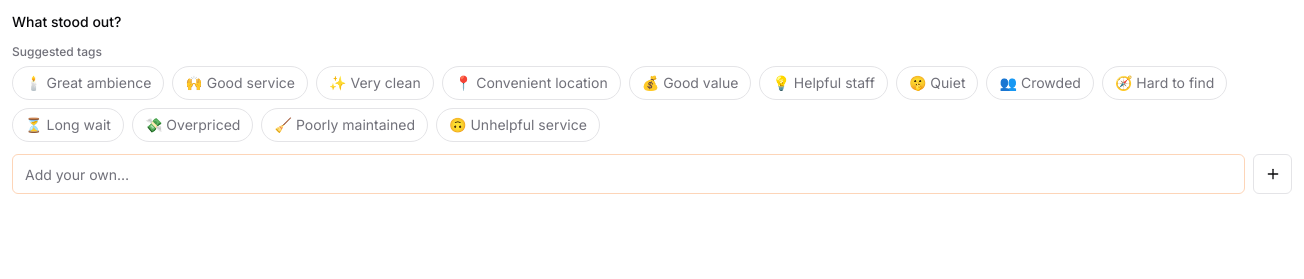
it: UnifiedTagSelector (curated adapter) › adds custom tags with Enter without submitting the form, and removes them
The width and height of the screenshot is (1304, 279).
Later steps or results of the test are not shown.
Type "  Lack of AC  " into the field named "Add your own tag" at point(629, 174), box [12,154,1245,194]
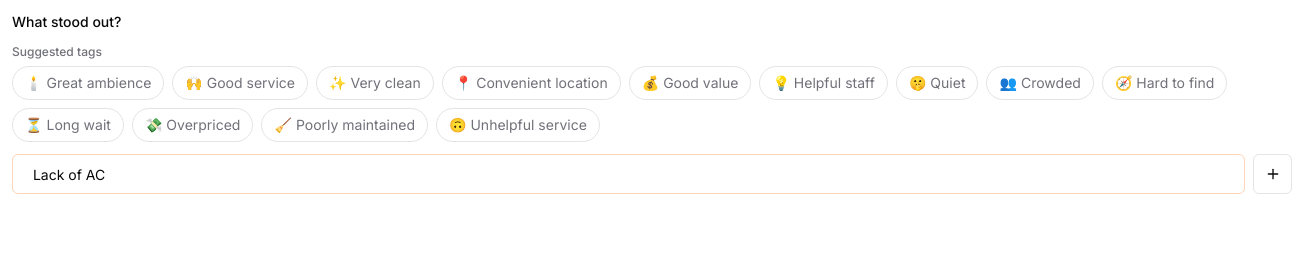
Press Enter in the field named "Add your own tag", box [12,154,1245,194]
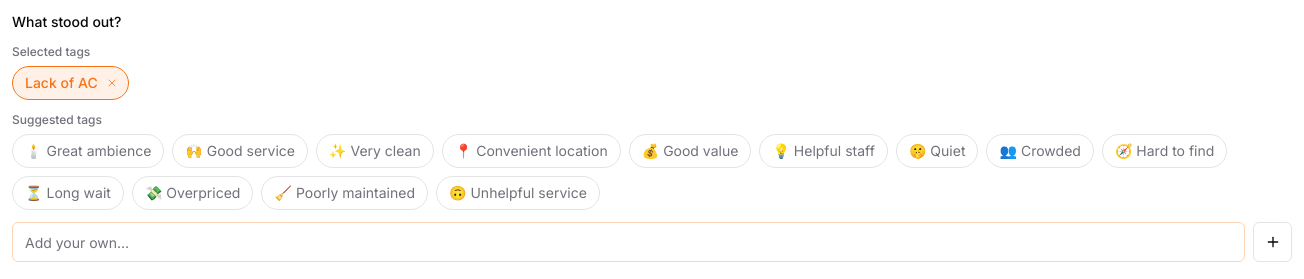
Check: the field named "Add your own tag" is empty, box [12,222,1245,262]
